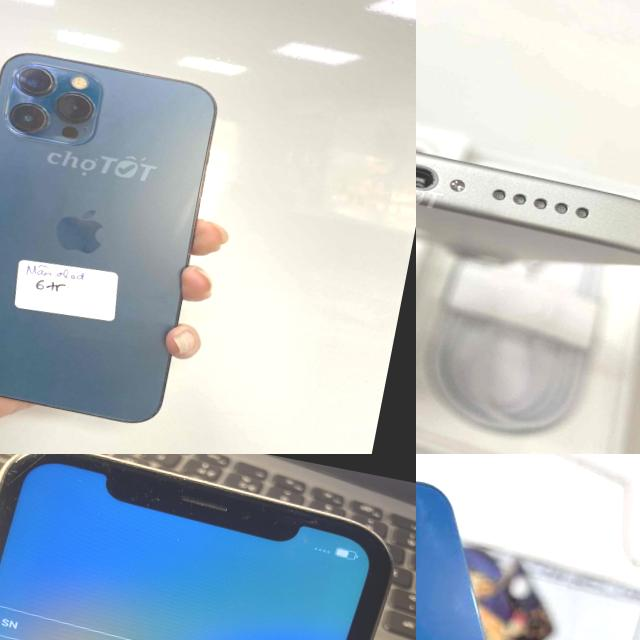gen_12_13: (0, 40, 243, 439), (416, 454, 598, 640)
gen_17: (416, 80, 640, 301)
gen_x_xs: (0, 454, 409, 640)
